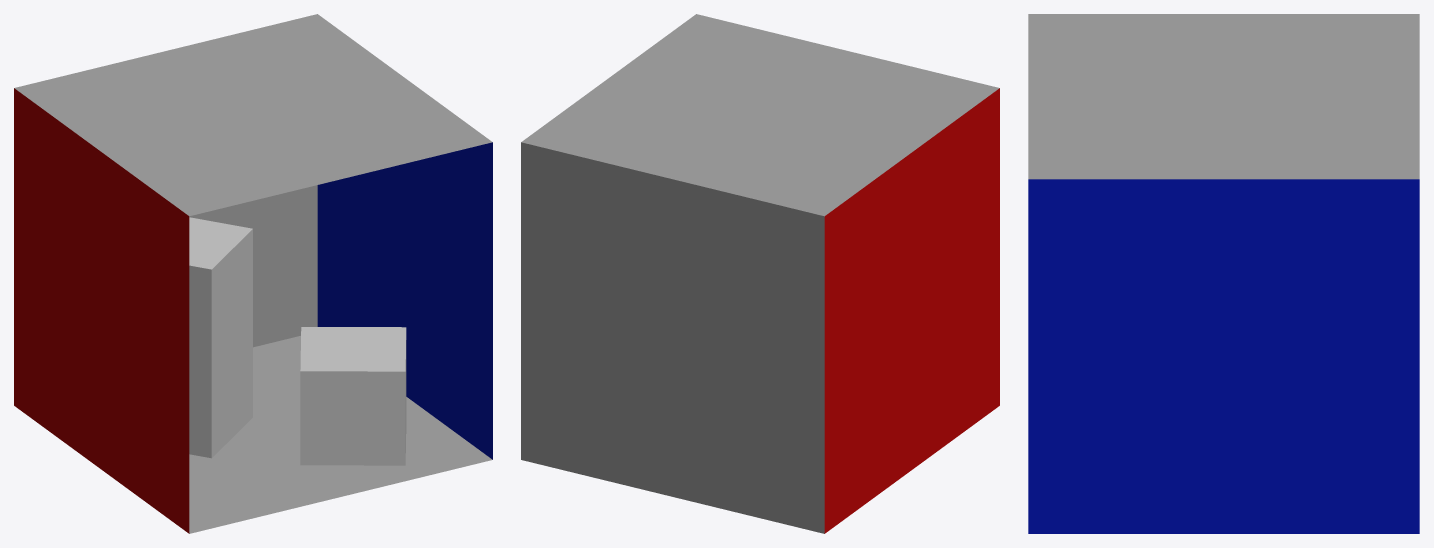
File: boxes-red-blue.obj
3 views of the same model, side by side, from view 1: azimuth 30°, elevation 25°; view 2: azimuth 150°, elevation 25°; view 3: azimuth 270°, elevation 25° (orthographic). The views are drawn at different scales.
Parts seen in each view (by area): view 1: Walls, Box_small, Box_tall; view 2: Walls; view 3: Walls.
Part boxes in pixels (left/top/right/bottom): Walls: left=14, top=14, right=492, bottom=533; Box_small: left=300, top=327, right=406, bottom=465; Box_tall: left=189, top=217, right=252, bottom=458; Walls: left=521, top=14, right=999, bottom=533; Walls: left=1028, top=14, right=1419, bottom=533.
Size of the model in its own units: 2 by 2.01 by 2.
